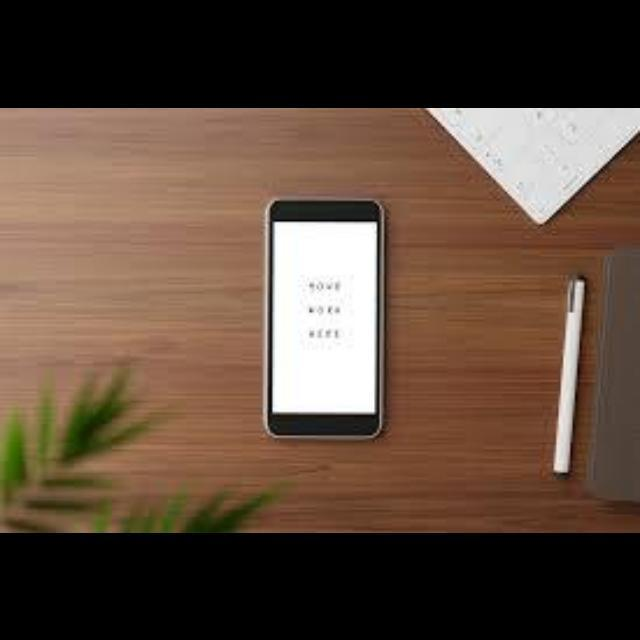PhoneUse: (250, 188, 402, 444)
